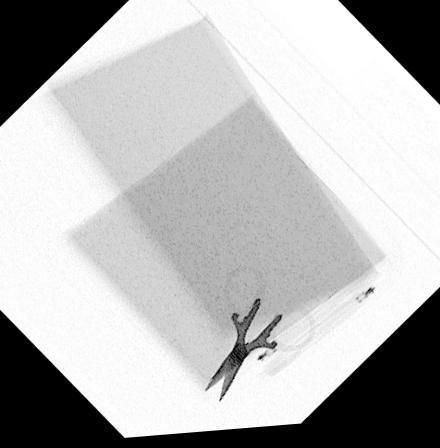Scissors: (201, 266, 317, 411)
